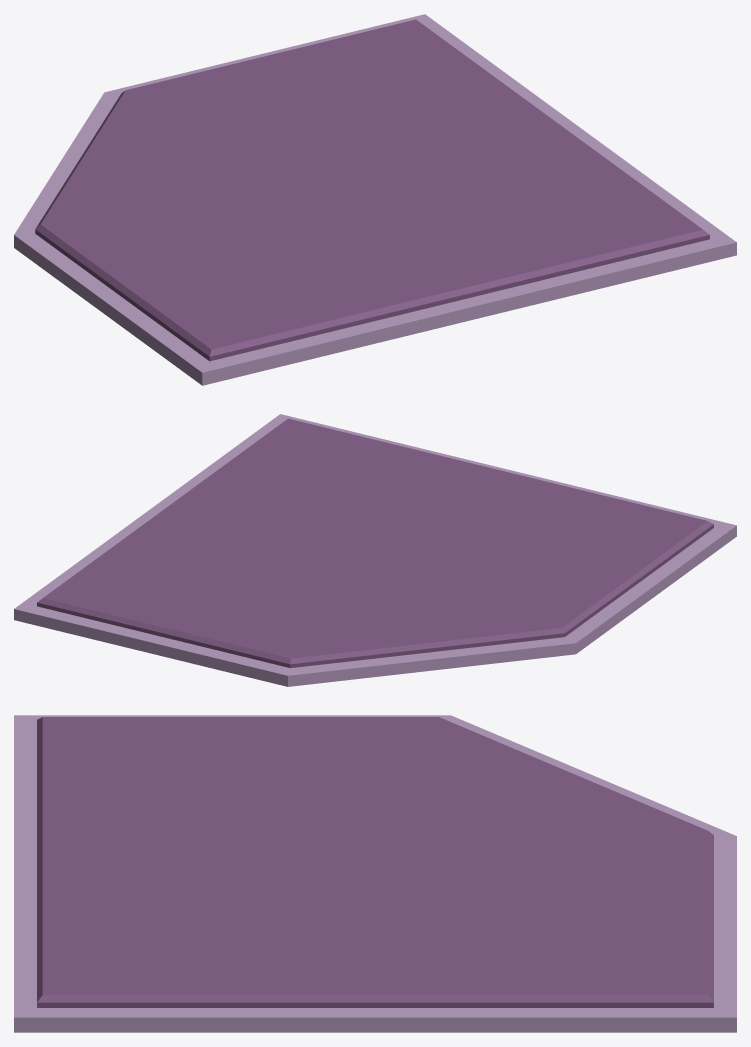
Rendered from Floor2.fbx.
3 renders of one model, top to bottom at view 1: azimuth 30°, elevation 25°; view 2: azimuth 150°, elevation 25°; view 3: azimuth 270°, elevation 25°, orthographic. The views are drawn at different scales.
Visible parts, largest first — view 1: Floor_2; view 2: Floor_2; view 3: Floor_2.
Part boxes in pixels (box(x1,y1,x2,y2)): Floor_2: box(14, 14, 736, 385); Floor_2: box(14, 414, 736, 686); Floor_2: box(14, 715, 736, 1032).
Bounding box in the file's own units: 560 × 22.03 × 566.
